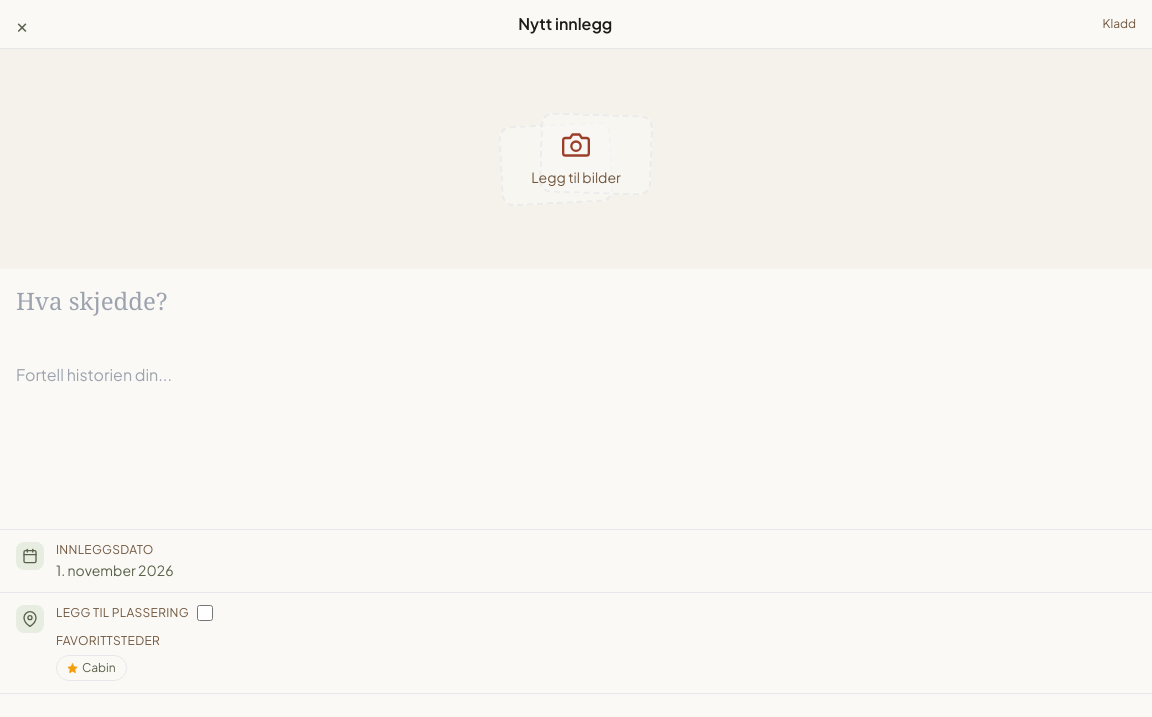
Test: CreateEntryScreen › favorite places picker › lists only favorites; picking one pre-fills the location fields
Click the button "Cabin" at {"x": 91, "y": 668}, box [56, 655, 127, 681]
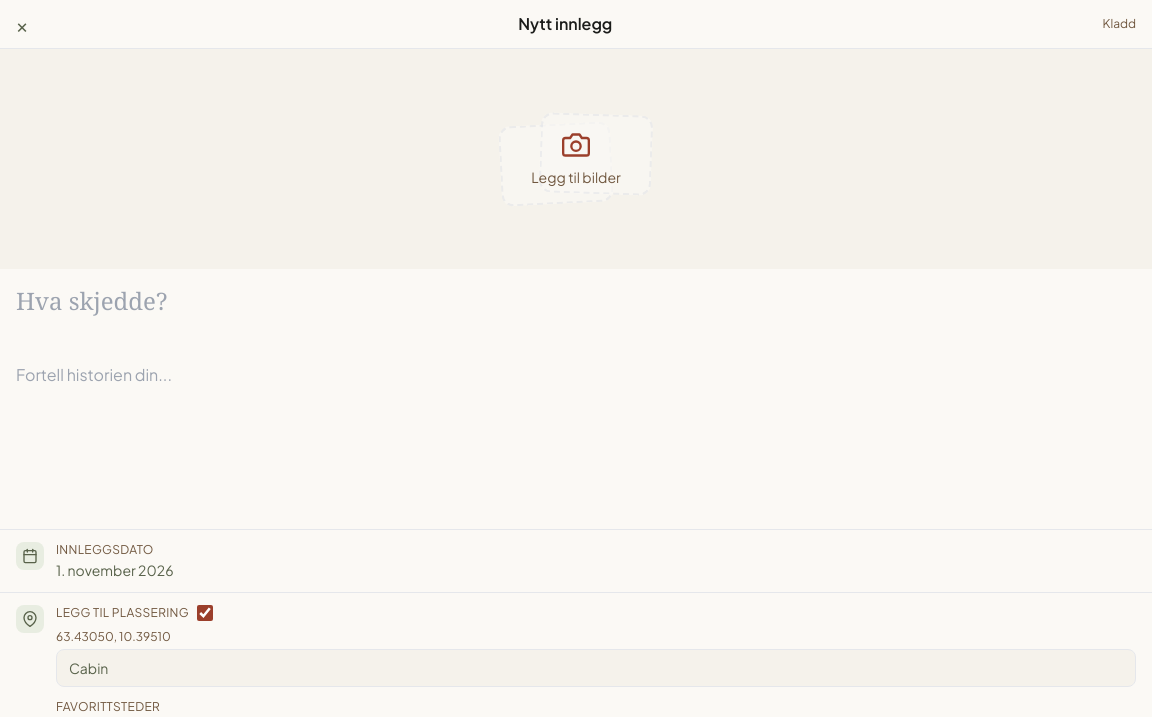
Now the text "63.43050, 10.39510" is shown, box [56, 629, 171, 644]
Now the field with placeholder "Stednavn (valgfritt)" holds "Cabin", box [56, 649, 1136, 687]
